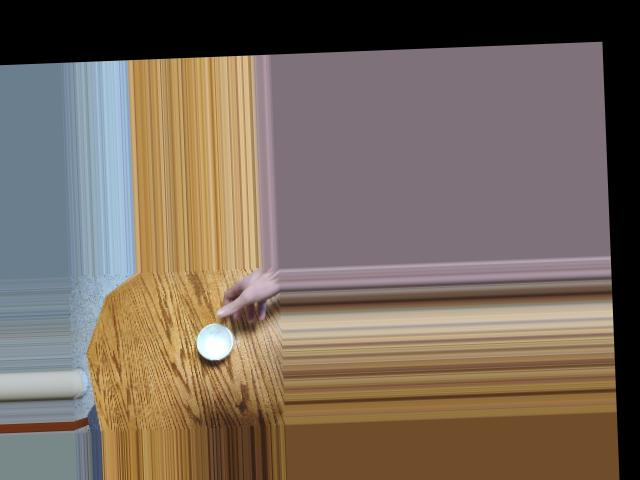cotage: (187, 319, 243, 368)
